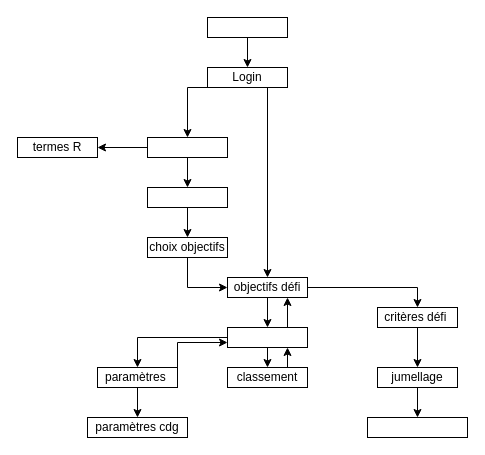
Some shapes in this 485 by 455 pixel diagram are drawn without their labels. The shapes that lost their labels are listed below. From the top down, each one's centre as x and y in pixels, then its label:
the point at 247,27: home
the point at 187,147: register
the point at 187,197: avatar
the point at 267,337: app Nav
the point at 417,427: compteur vitesse
